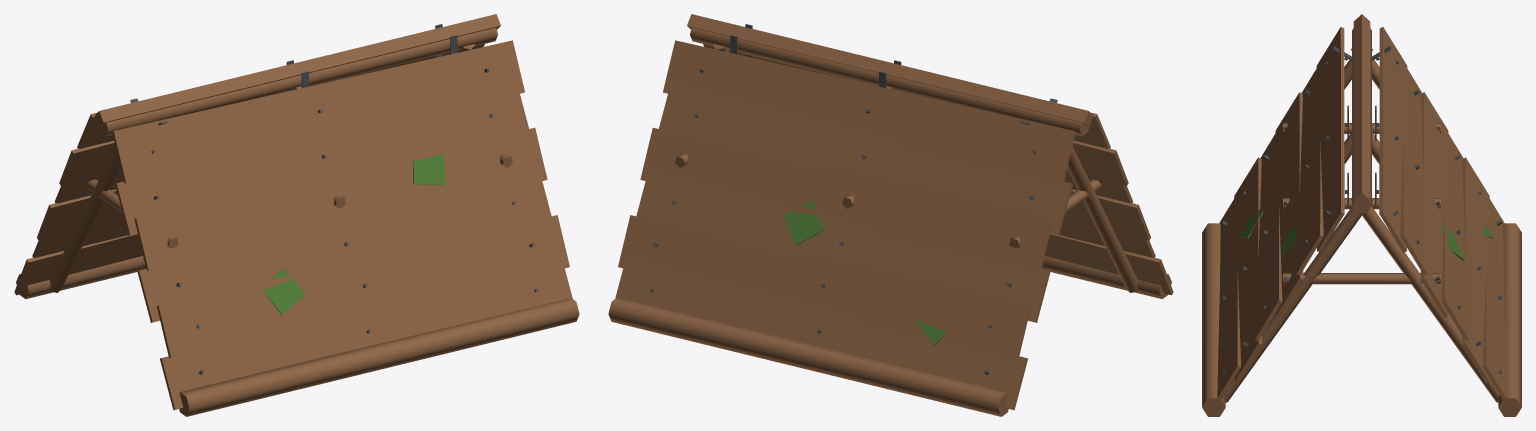
The model's file is roof-bundle.glb.
3 views of the same model, side by side, from view 1: azimuth 30°, elevation 25°; view 2: azimuth 150°, elevation 25°; view 3: azimuth 270°, elevation 25° (orthographic). The views are drawn at different scales.
Parts seen in each view (by area): view 1: Mesh_PlankR5, Mesh_PlankR4, Mesh_PlankR2, Mesh_PlankR1, Mesh_PlankR3, Mesh_PlankR0, Mesh_SillR, Mesh_RidgeCap, Mesh_RidgeBeam, Mesh_PlankL0, Mesh_RafterL0, Mesh_PlankL2 (+7 smaller); view 2: Mesh_PlankL5, Mesh_PlankL4, Mesh_PlankL1, Mesh_PlankL3, Mesh_PlankL2, Mesh_PlankL0, Mesh_SillL, Mesh_RidgeCap, Mesh_RidgeBeam, Mesh_PlankR0, Mesh_RafterR2, Mesh_PlankR2 (+6 smaller); view 3: Mesh_PlankL5, Mesh_PlankR5, Mesh_PlankL1, Mesh_PlankL3, Mesh_PlankR1, Mesh_PlankR3, Mesh_PlankR4, Mesh_PlankL4, Mesh_PlankR2, Mesh_PlankL2, Mesh_SillL, Mesh_SillR (+7 smaller).
Boxes of the visible parts, x1=… form: Mesh_PlankR5: x1=112, y1=40, x2=524, y2=183; Mesh_PlankR4: x1=115, y1=79, x2=529, y2=235; Mesh_PlankR2: x1=137, y1=166, x2=551, y2=322; Mesh_PlankR1: x1=157, y1=215, x2=569, y2=357; Mesh_PlankR3: x1=134, y1=127, x2=547, y2=270; Mesh_PlankR0: x1=160, y1=254, x2=572, y2=410; Mesh_SillR: x1=179, y1=298, x2=579, y2=416; Mesh_RidgeCap: x1=94, y1=14, x2=500, y2=127; Mesh_RidgeBeam: x1=98, y1=27, x2=497, y2=136; Mesh_PlankL0: x1=14, y1=233, x2=142, y2=295; Mesh_RafterL0: x1=49, y1=146, x2=120, y2=292; Mesh_PlankL2: x1=37, y1=189, x2=123, y2=240; Mesh_PlankL5: x1=663, y1=40, x2=1075, y2=183; Mesh_PlankL4: x1=658, y1=79, x2=1072, y2=235; Mesh_PlankL1: x1=618, y1=215, x2=1030, y2=357; Mesh_PlankL3: x1=640, y1=127, x2=1053, y2=270; Mesh_PlankL2: x1=636, y1=166, x2=1050, y2=322; Mesh_PlankL0: x1=615, y1=254, x2=1027, y2=410; Mesh_SillL: x1=608, y1=298, x2=1008, y2=416; Mesh_RidgeCap: x1=687, y1=14, x2=1093, y2=127; Mesh_RidgeBeam: x1=690, y1=27, x2=1089, y2=136; Mesh_PlankR0: x1=1045, y1=233, x2=1173, y2=295; Mesh_RafterR2: x1=1067, y1=146, x2=1138, y2=292; Mesh_PlankR2: x1=1064, y1=189, x2=1150, y2=240; Mesh_PlankL5: x1=1379, y1=27, x2=1407, y2=252; Mesh_PlankR5: x1=1316, y1=27, x2=1344, y2=252; Mesh_PlankL1: x1=1462, y1=157, x2=1489, y2=383; Mesh_PlankL3: x1=1420, y1=92, x2=1448, y2=317; Mesh_PlankR1: x1=1234, y1=157, x2=1261, y2=383; Mesh_PlankR3: x1=1275, y1=92, x2=1303, y2=317; Mesh_PlankR4: x1=1296, y1=69, x2=1323, y2=275; Mesh_PlankL4: x1=1400, y1=69, x2=1427, y2=275; Mesh_PlankR2: x1=1255, y1=133, x2=1282, y2=340; Mesh_PlankL2: x1=1441, y1=133, x2=1468, y2=340; Mesh_SillL: x1=1498, y1=223, x2=1521, y2=416; Mesh_SillR: x1=1202, y1=223, x2=1225, y2=416.
Size of the model in its own units: 2.19 by 1.26 by 1.62.
